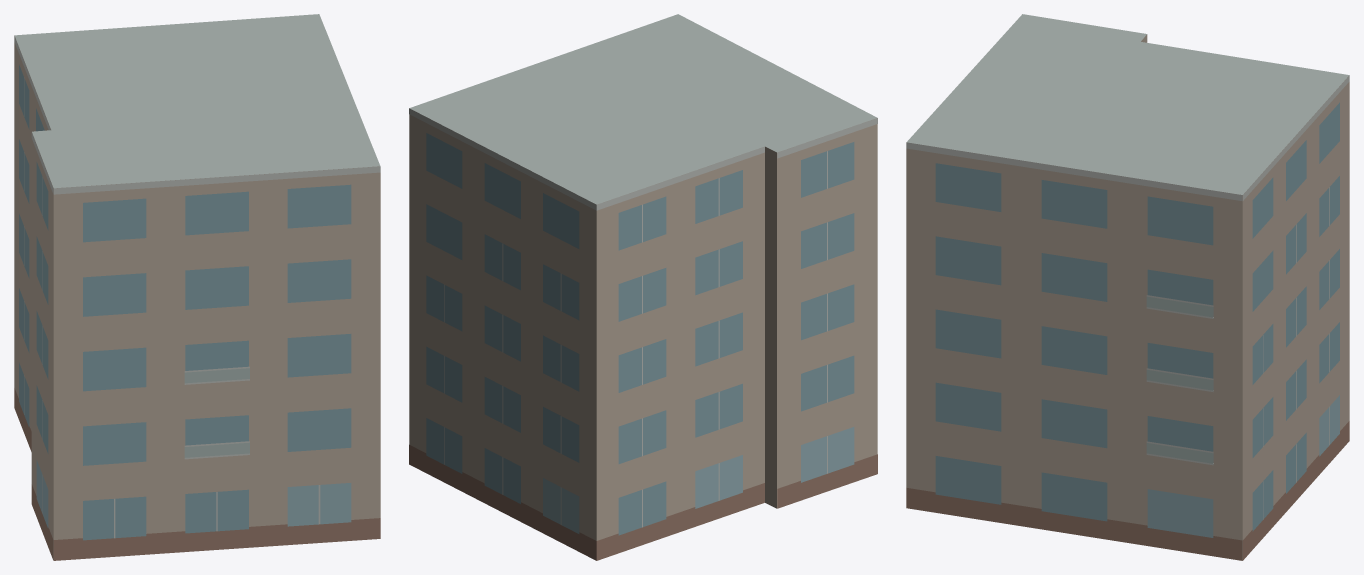
The model's file is survey-upis-32876024.glb.
3 views of the same model, side by side, from view 1: azimuth 30°, elevation 25°; view 2: azimuth 150°, elevation 25°; view 3: azimuth 270°, elevation 25° (orthographic). The views are drawn at different scales.
Parts seen in each view (by area): view 1: survey-upis-32876024.tmp; view 2: survey-upis-32876024.tmp; view 3: survey-upis-32876024.tmp.
Part boxes in pixels (x1,y1,x2,y2): survey-upis-32876024.tmp: (14,14,380,560); survey-upis-32876024.tmp: (409,14,877,560); survey-upis-32876024.tmp: (906,14,1349,560).
Bounding box in the file's own units: 15.3 × 14.4 × 15.82.
